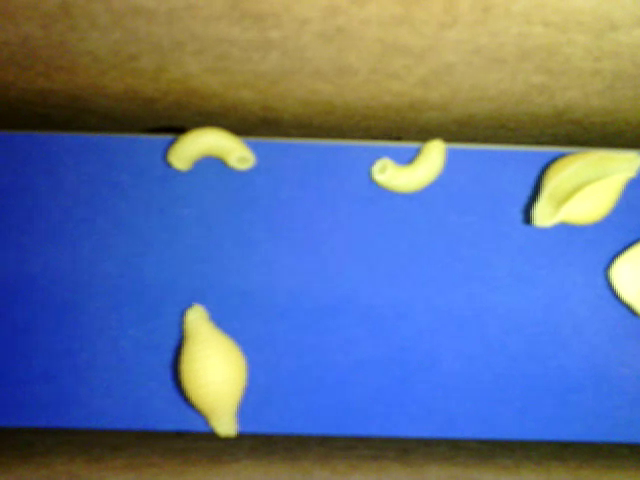elbow: (370, 137, 447, 194), (163, 126, 257, 172)
shell: (178, 303, 248, 436), (530, 149, 639, 228)
